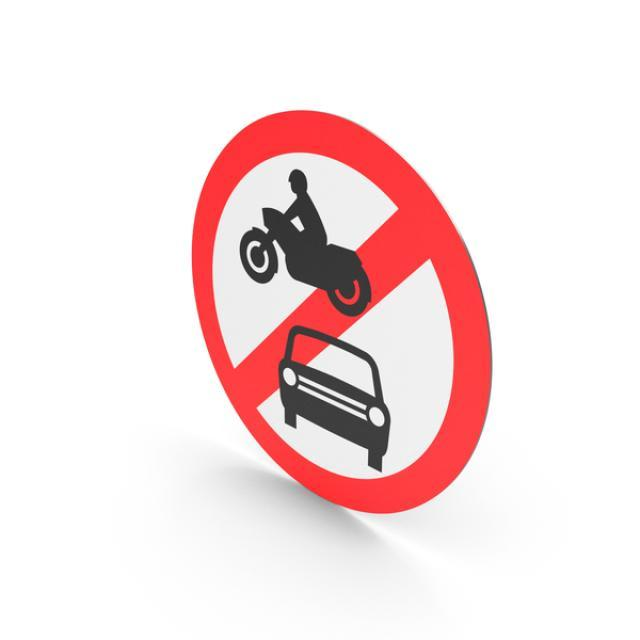all motor vehicle prohibited: (189, 109, 495, 514)
